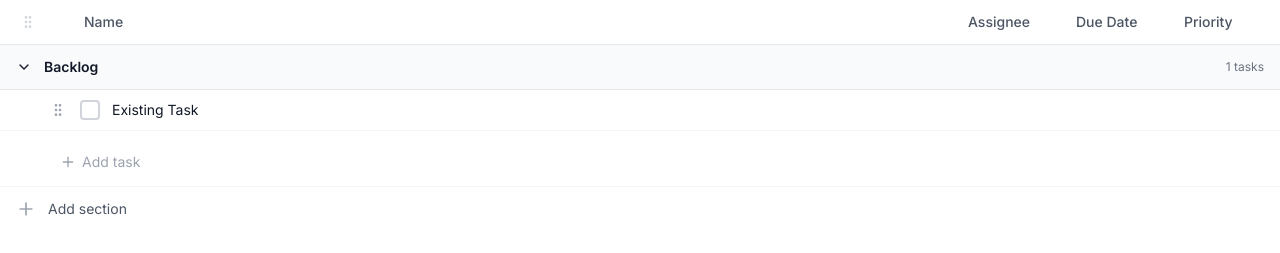
Test: ProjectListView › opens inline section input when "Add section" is clicked
The image size is (1280, 253).
Click the text "Add section". click: [87, 209]
box: [48, 199, 127, 219]
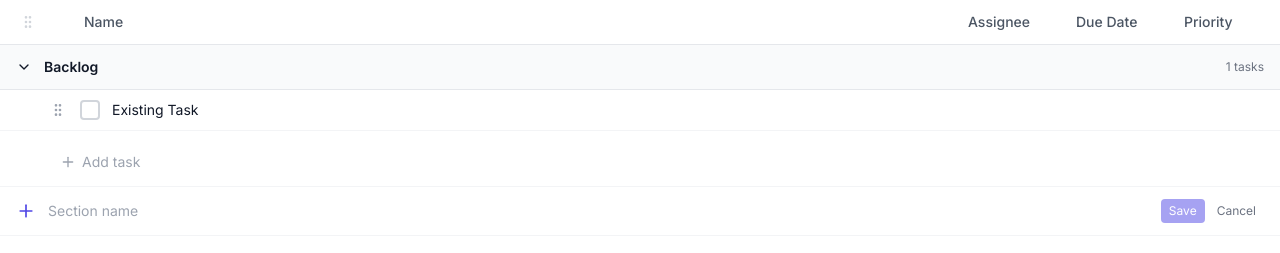
Expected: the field with placeholder "Section name" is shown, [48, 201, 1149, 221]
